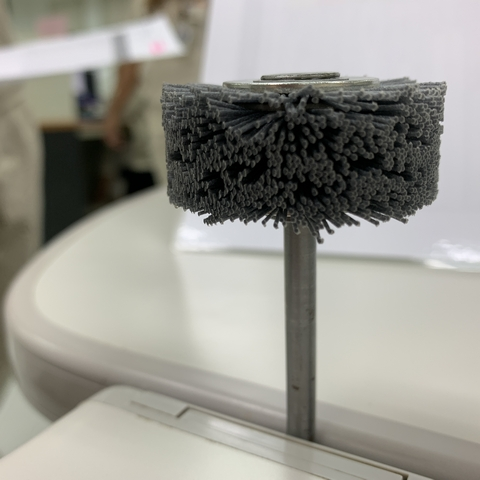Wheel Brush: (161, 86, 430, 447), (162, 66, 446, 400), (160, 84, 444, 361)
